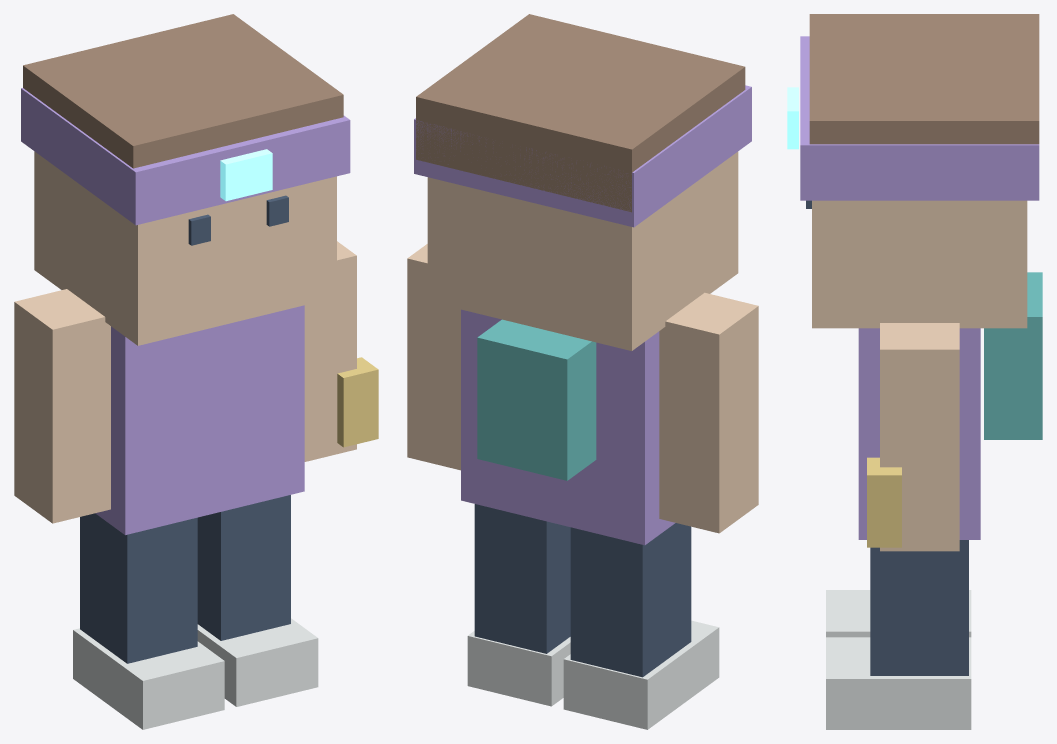
File: weirdo_4_butt_train_conductor.glb
3 views of the same model, side by side, from view 1: azimuth 30°, elevation 25°; view 2: azimuth 150°, elevation 25°; view 3: azimuth 270°, elevation 25° (orthographic). The views are drawn at different scales.
Parts seen in each view (by area): view 1: RootBody, Head, Hair, Arm_L, ConductorCap, Leg_L, Leg_R, Shoe_L, Arm_R, Shoe_R, TicketPuncher, CapBadge (+2 smaller); view 2: Hair, Head, RootBody, Arm_L, TransitPack, Leg_L, Leg_R, ConductorCap, Arm_R, Shoe_L, Shoe_R; view 3: Hair, Head, Arm_R, ConductorCap, Leg_R, Shoe_R, RootBody, TransitPack, TicketPuncher, Shoe_L, CapBadge.
Boxes of the visible parts, left/top/right/bottom form: RootBody: left=95, top=305, right=304, bottom=535; Head: left=34, top=151, right=336, bottom=345; Hair: left=23, top=14, right=343, bottom=168; Arm_L: left=14, top=289, right=110, bottom=523; ConductorCap: left=21, top=88, right=350, bottom=225; Leg_L: left=80, top=513, right=197, bottom=663; Leg_R: left=197, top=495, right=290, bottom=640; Shoe_L: left=73, top=628, right=224, bottom=729; Arm_R: left=304, top=241, right=356, bottom=461; Shoe_R: left=197, top=618, right=318, bottom=706; TicketPuncher: left=337, top=357, right=378, bottom=447; CapBadge: left=220, top=149, right=272, bottom=201; Hair: left=416, top=14, right=745, bottom=212; Head: left=427, top=151, right=738, bottom=350; RootBody: left=461, top=309, right=675, bottom=545; Arm_L: left=659, top=292, right=758, bottom=533; TransitPack: left=477, top=319, right=596, bottom=480; Leg_L: left=570, top=523, right=691, bottom=677; Leg_R: left=474, top=504, right=570, bottom=653; ConductorCap: left=414, top=85, right=751, bottom=227; Arm_R: left=407, top=244, right=460, bottom=470; Shoe_L: left=563, top=620, right=719, bottom=729; Shoe_R: left=467, top=631, right=570, bottom=706; Hair: left=809, top=14, right=1039, bottom=144; Head: left=812, top=200, right=1027, bottom=328; Arm_R: left=880, top=323, right=959, bottom=551; ConductorCap: left=800, top=36, right=1039, bottom=200; Leg_R: left=870, top=540, right=968, bottom=675; Shoe_R: left=826, top=637, right=971, bottom=729; RootBody: left=858, top=328, right=980, bottom=539; TransitPack: left=984, top=272, right=1042, bottom=439; TicketPuncher: left=867, top=457, right=901, bottom=547; Shoe_L: left=826, top=590, right=971, bottom=637; CapBadge: left=787, top=87, right=798, bottom=149.
Size of the model in its own units: 1.64 by 2.91 by 1.09.
